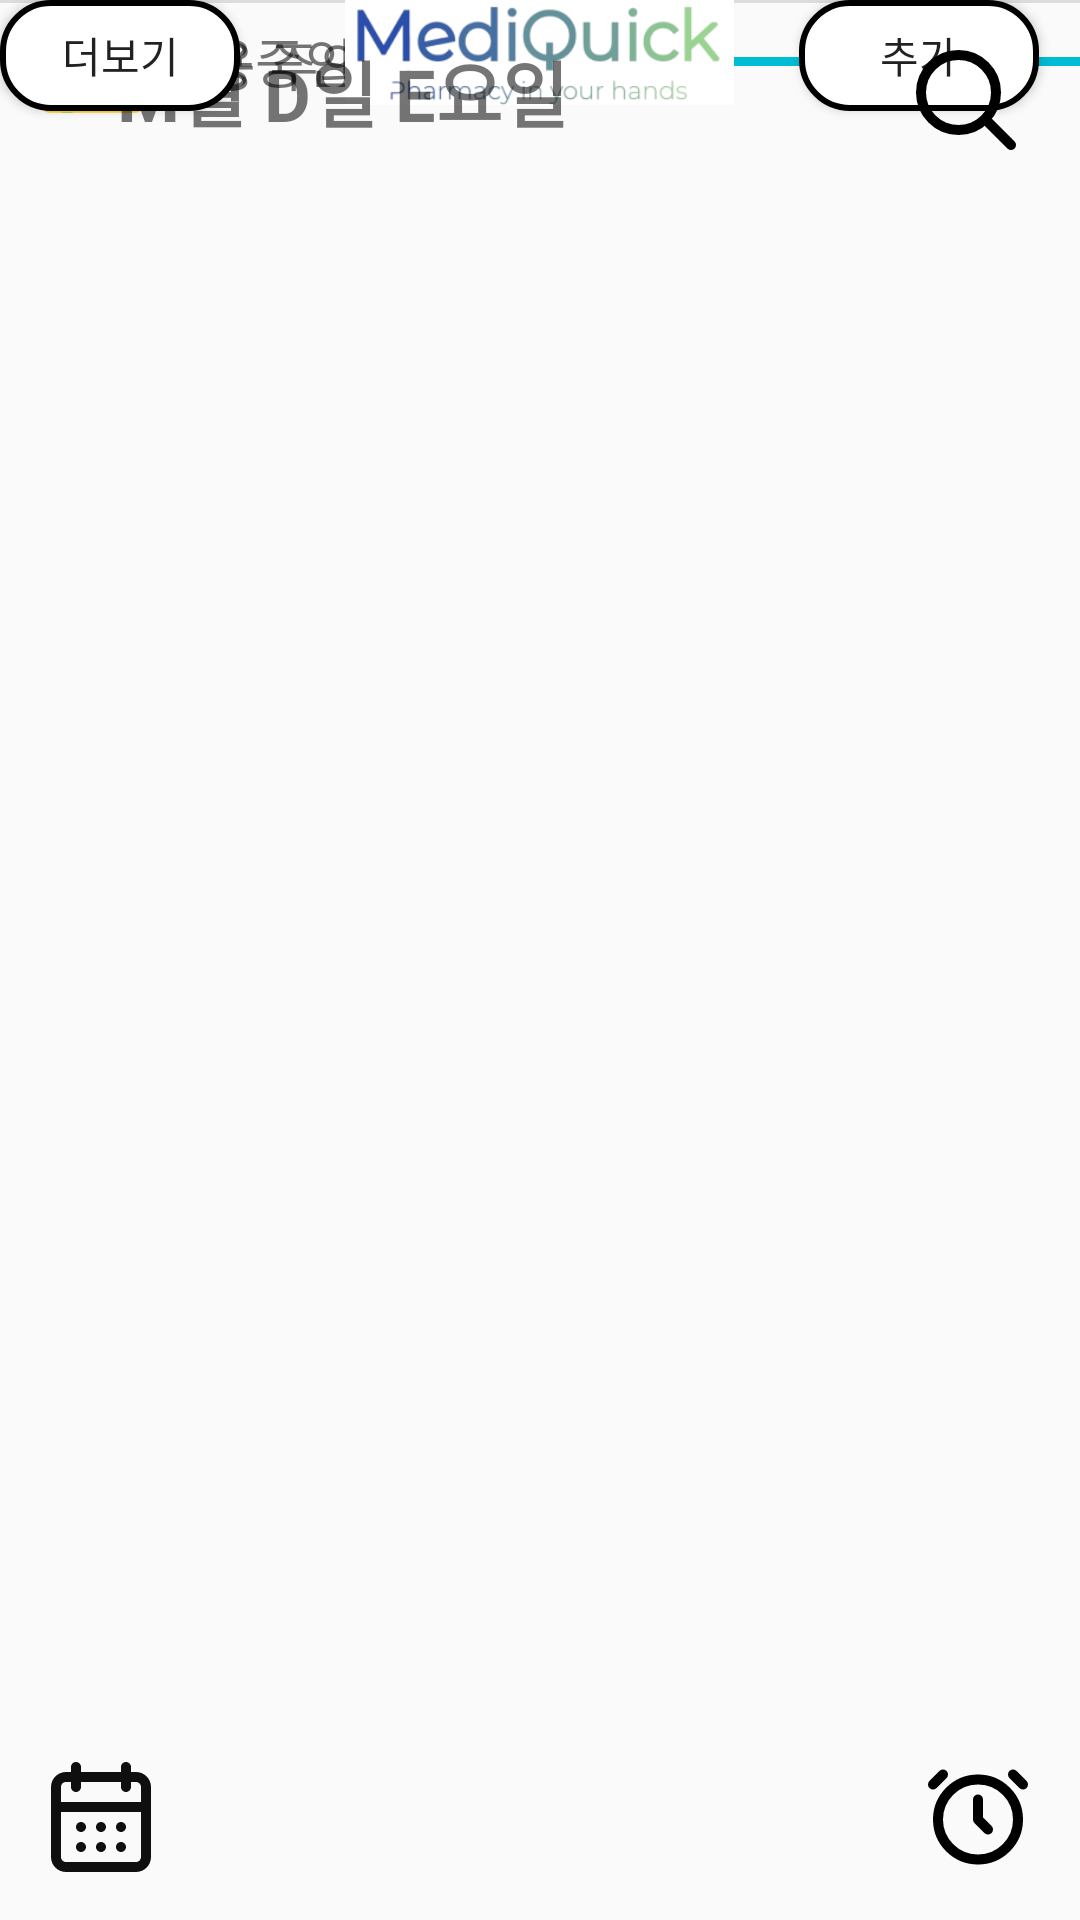

Locate icon controls on the screen. Image size 1080x1920, boxes as bbox(x1, y1, x2, y2).
alarm clock: bbox(928, 1769, 1028, 1865)
calendar: bbox(51, 1762, 151, 1872)
